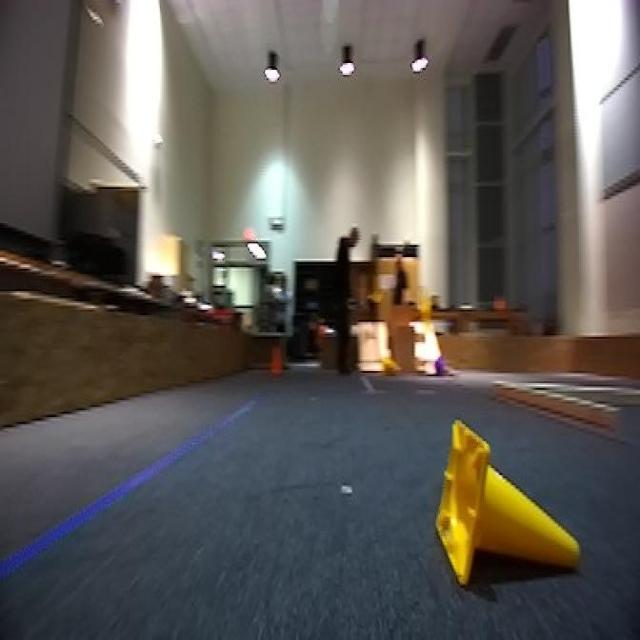frc_cone: (441, 414, 591, 580), (380, 359, 394, 380)
frc_cube: (434, 352, 449, 377)
